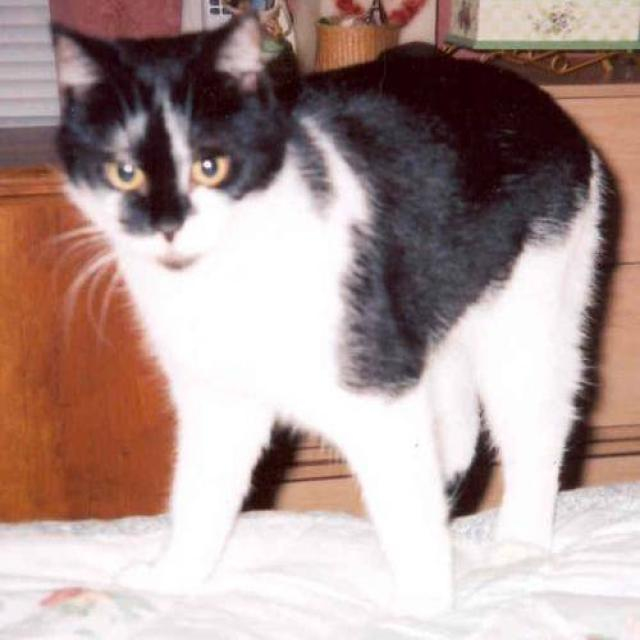cat: (37, 7, 622, 615)
